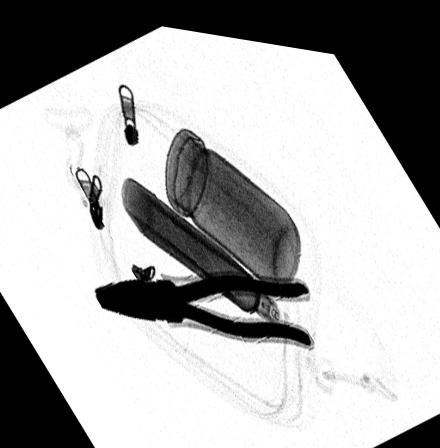Pliers: (91, 265, 314, 339)
